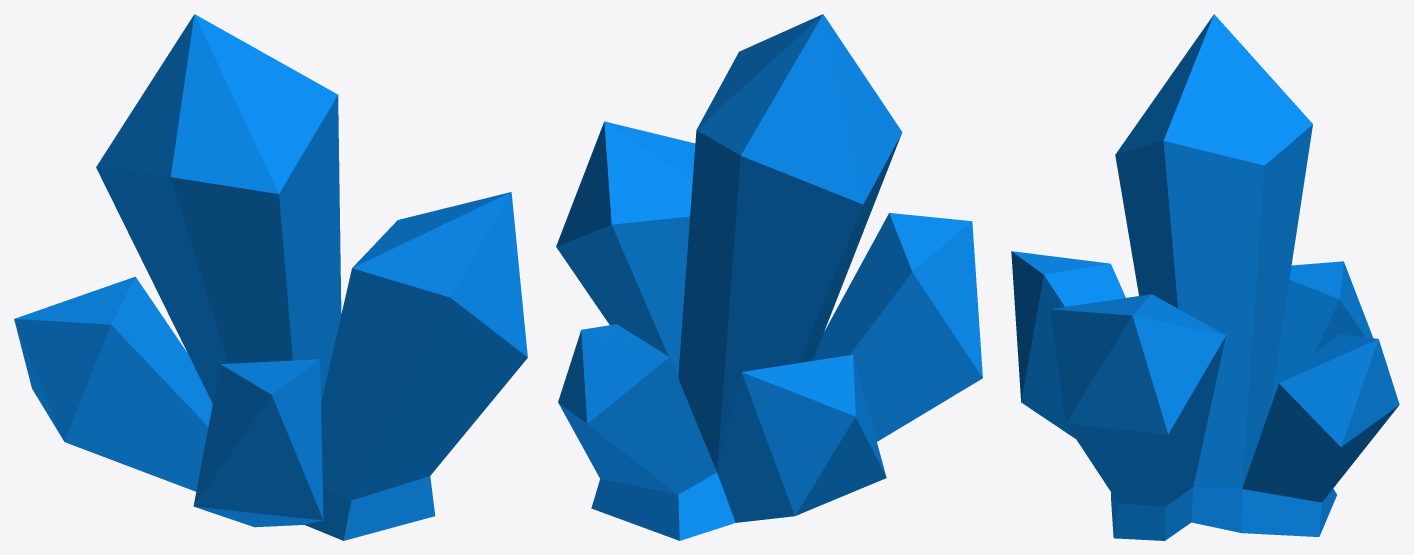
File: Crystal-C06.fbx
3 renders of one model, left to right at view 1: azimuth 30°, elevation 25°; view 2: azimuth 150°, elevation 25°; view 3: azimuth 270°, elevation 25°, orthographic. The views are drawn at different scales.
Parts seen in each view (by area): view 1: Crystal-C06; view 2: Crystal-C06; view 3: Crystal-C06.
Boxes of the visible parts, x1,y1,x2,y2 form: Crystal-C06: (14, 14, 527, 540); Crystal-C06: (556, 14, 982, 540); Crystal-C06: (1011, 14, 1399, 540).
Bounding box in the file's own units: 99.28 × 119 × 93.14.
